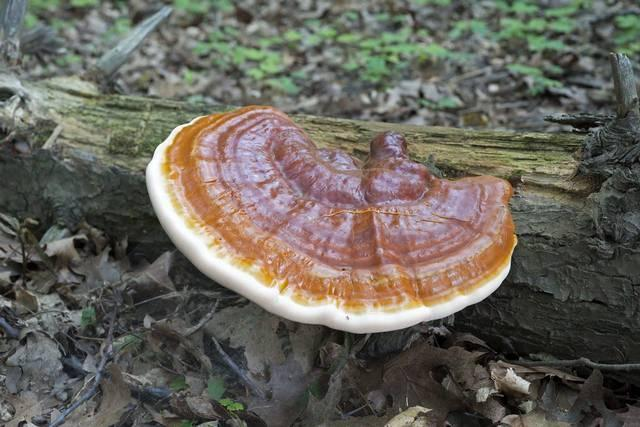poisonous_mushroom: (144, 103, 518, 334)
